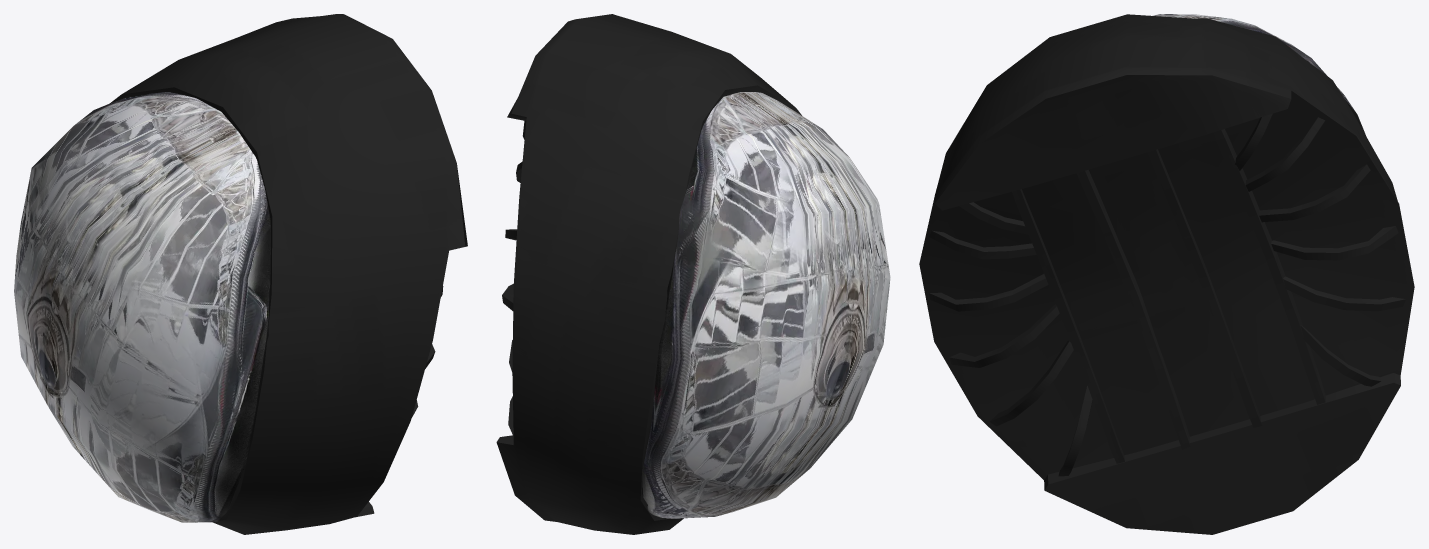
File: faro_breakout.glb
3 views of the same model, side by side, from view 1: azimuth 30°, elevation 25°; view 2: azimuth 150°, elevation 25°; view 3: azimuth 270°, elevation 25° (orthographic). The views are drawn at different scales.
Visible parts, largest first — view 1: ricambio; view 2: ricambio; view 3: ricambio.
Boxes of the visible parts, box(x1,y1,x2,y2) form: ricambio: box(14, 14, 467, 534); ricambio: box(496, 14, 890, 534); ricambio: box(919, 14, 1414, 534).
Bounding box in the file's own units: 0.1388 × 0.1964 × 0.1792.
Materials: 2 (2 with a texture image).
